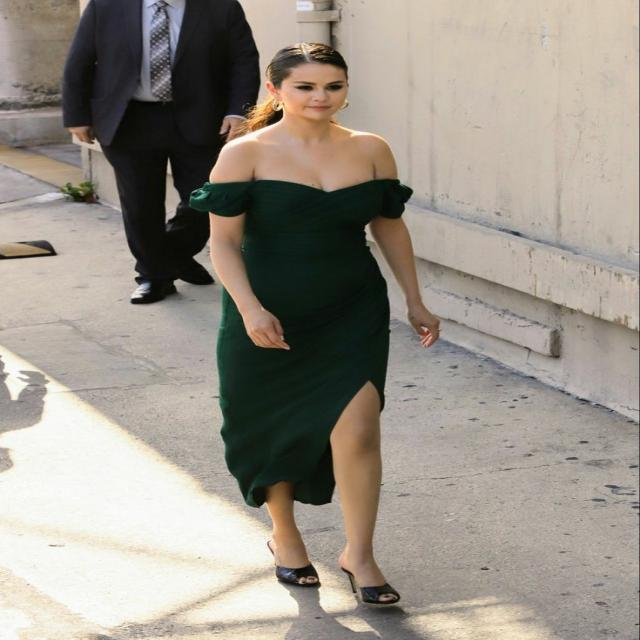female-dress: (183, 161, 444, 543), (176, 174, 388, 386)
